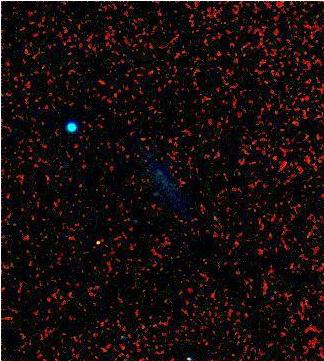star: (83, 227, 113, 257)
